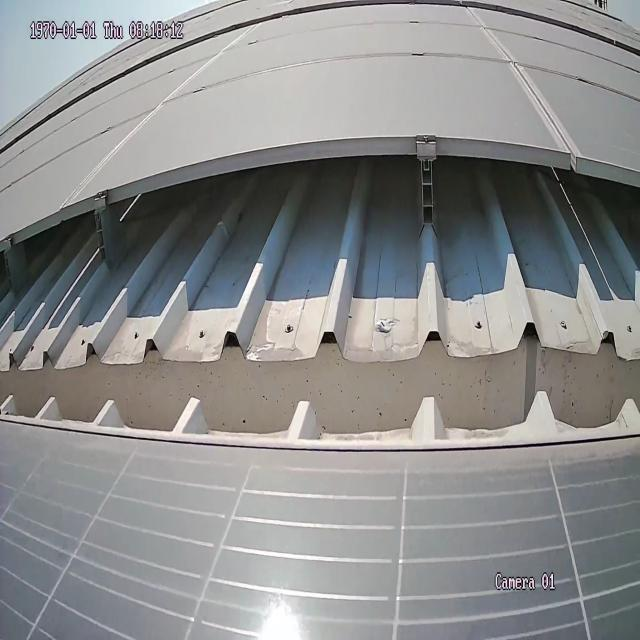interior panel: (61, 26, 249, 205), (464, 9, 578, 156)
outher panel: (0, 150, 638, 455)
